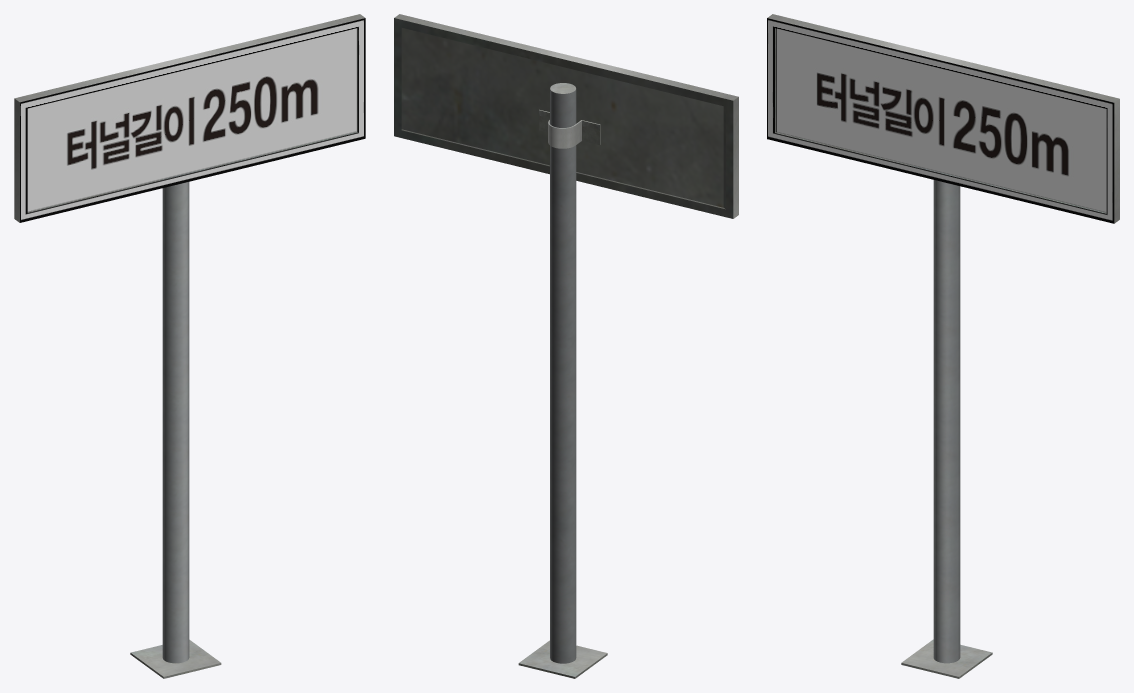
The picture shows the model from 3 angles, left to right: view 1: azimuth 30°, elevation 25°; view 2: azimuth 150°, elevation 25°; view 3: azimuth 330°, elevation 25°; orthographic projection. The views are drawn at different scales.
Parts seen in each view (by area): view 1: MainBuilding; view 2: MainBuilding; view 3: MainBuilding.
Part boxes in pixels (x1=…): MainBuilding: x1=14, y1=14, x2=365, y2=678; MainBuilding: x1=394, y1=14, x2=738, y2=678; MainBuilding: x1=767, y1=14, x2=1119, y2=678.
Size of the model in its own units: 0.9 by 1.51 by 0.15.
Materials: 1 (1 with a texture image).
